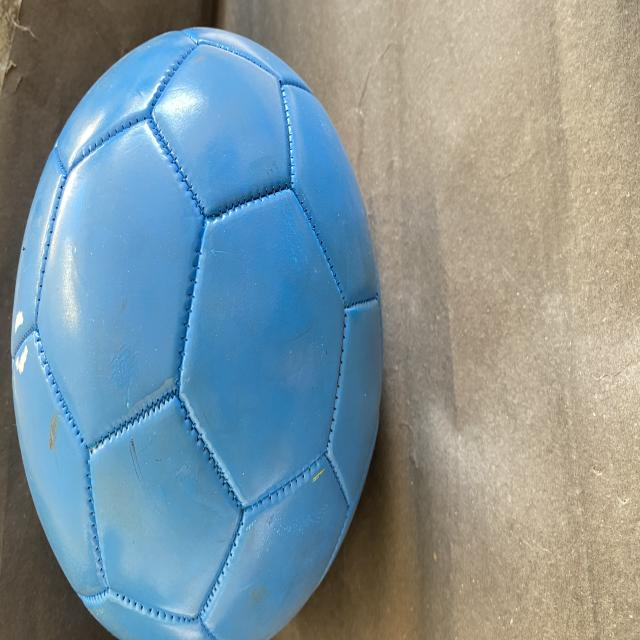blue_ball: (11, 29, 384, 640)
